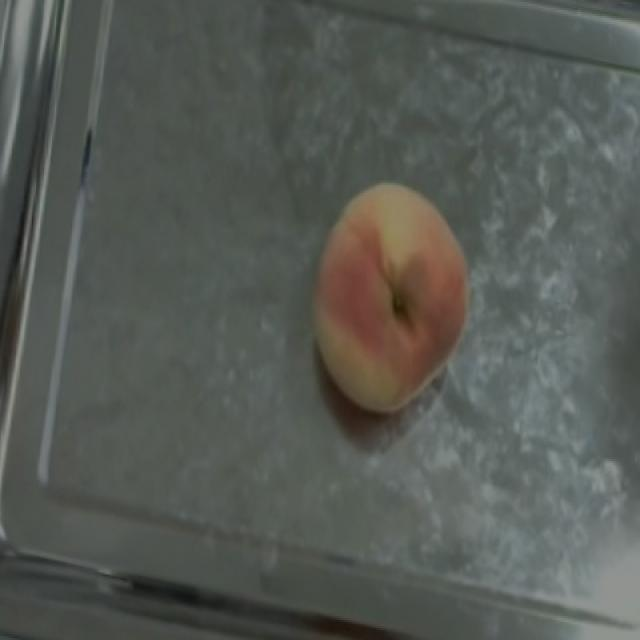Fruit: (288, 159, 493, 435)
